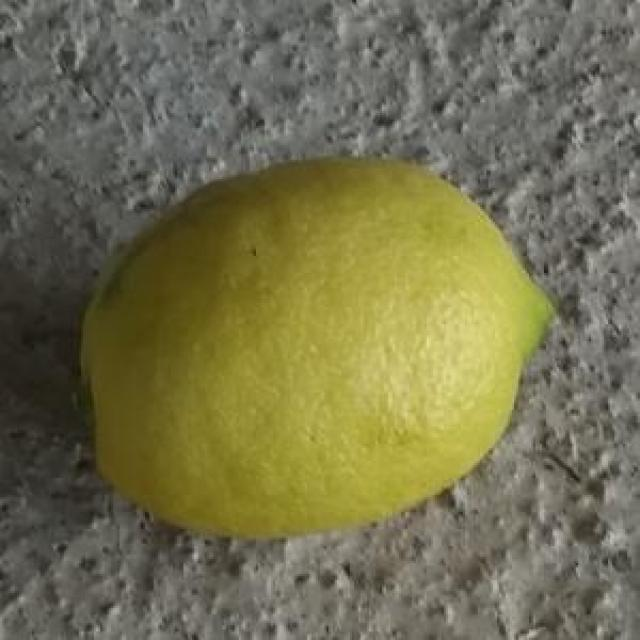lemon: (85, 160, 564, 532)
